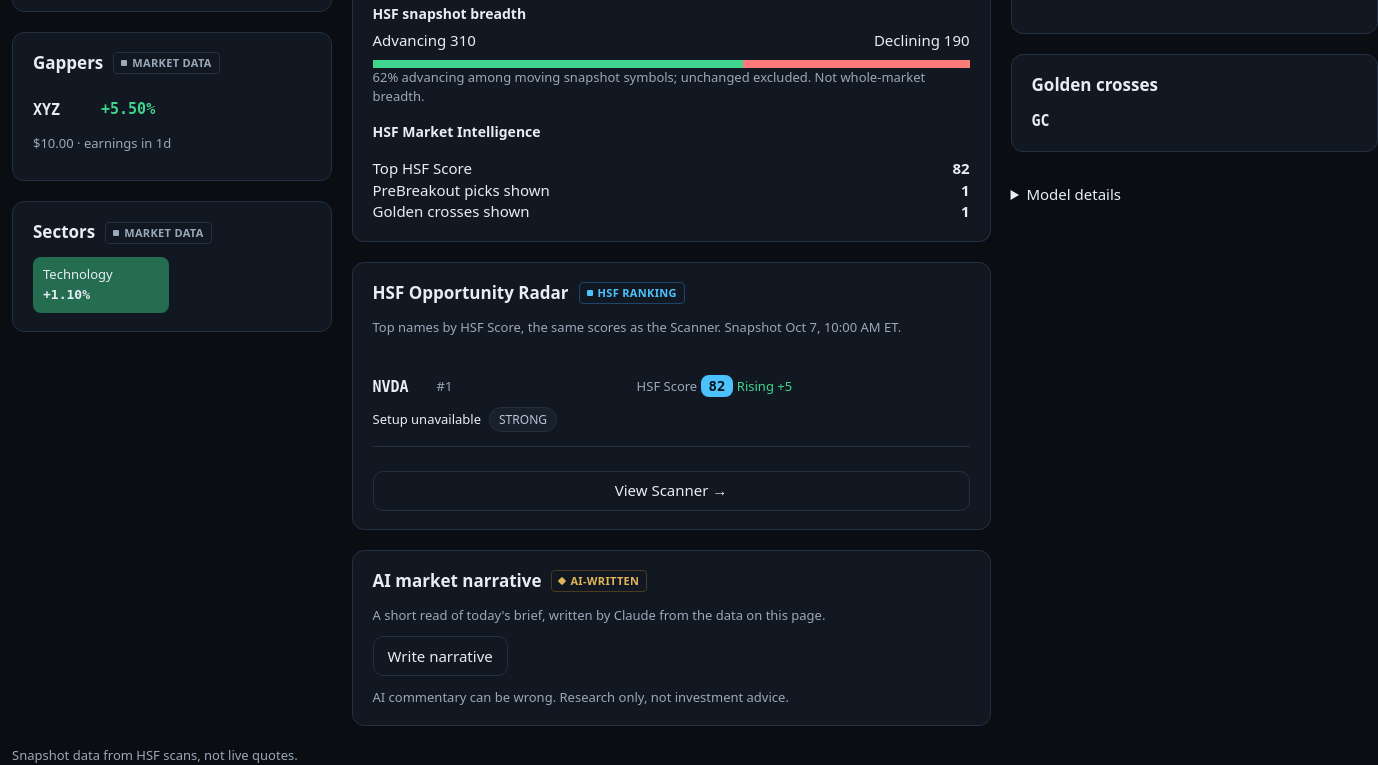
Test case: Market Brief › Premium: PreBreakout picks and an AI narrative on request
(page scrolled)
Click the button "Write narrative": (440, 656) [372,636,508,676]
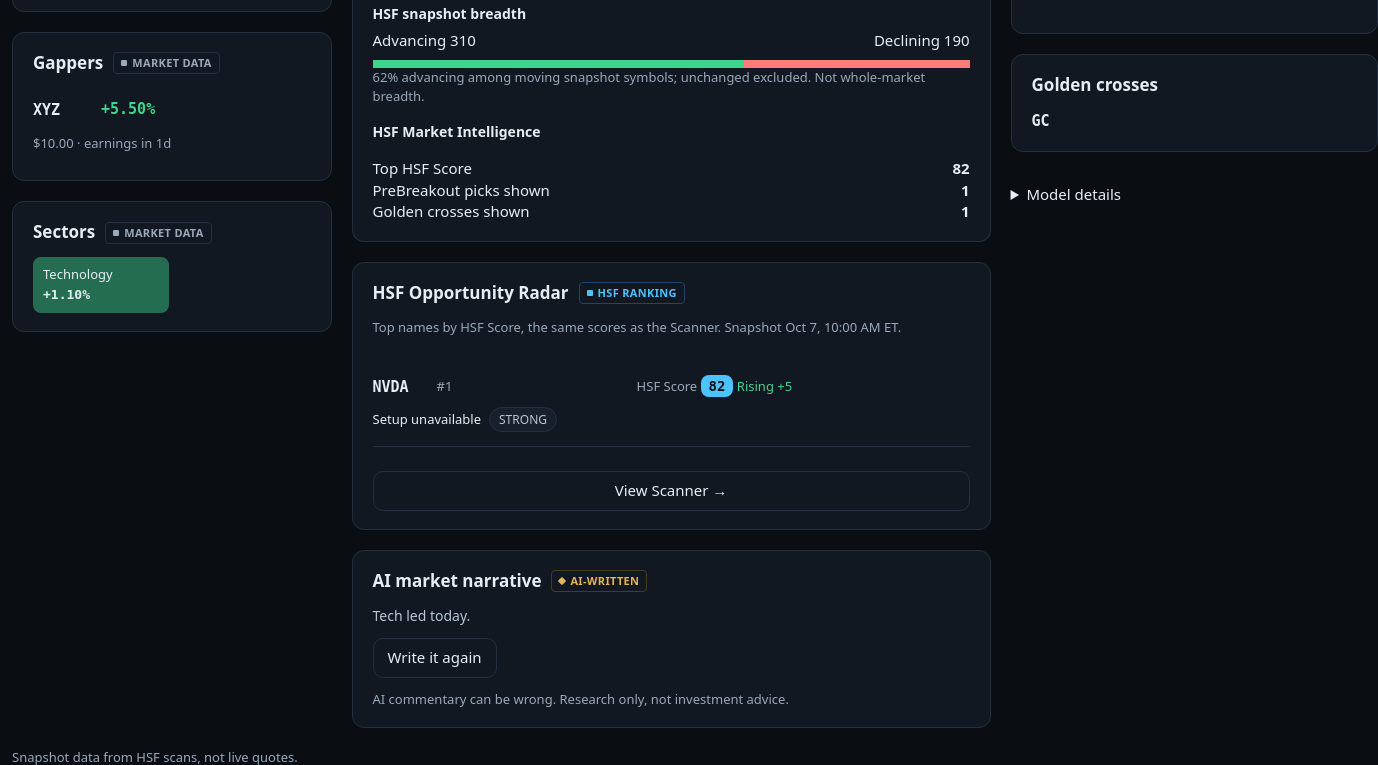
Check: the text "Tech led today." is shown, box [372,606,470,625]
